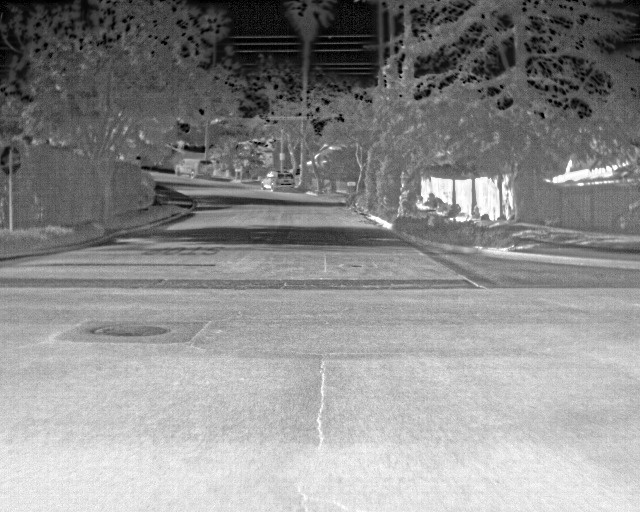vehicle: (260, 172, 298, 193)
